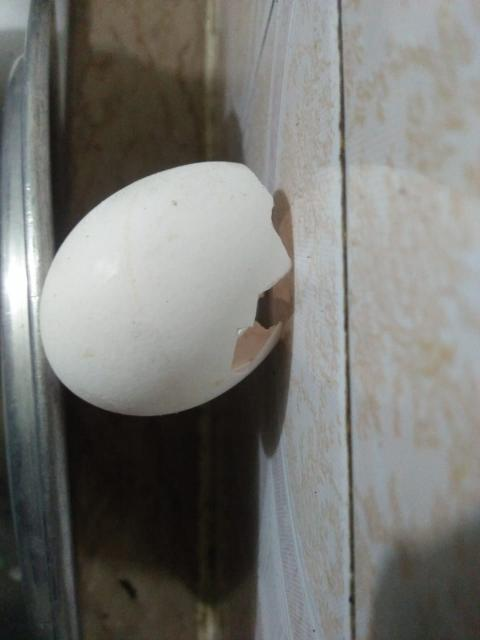Roto: (37, 159, 292, 417)
